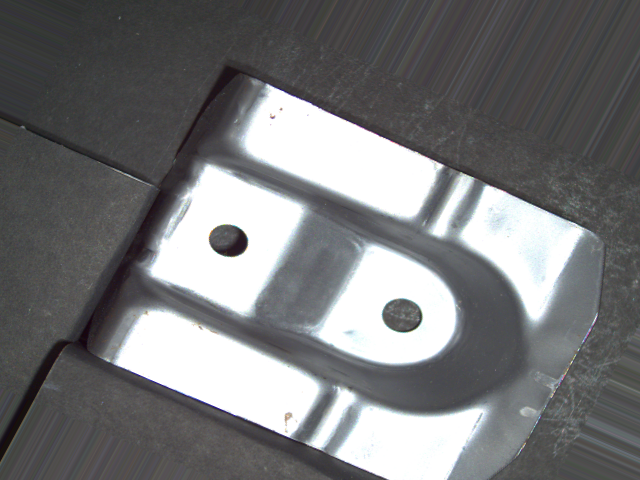defect: (374, 293, 425, 337)
